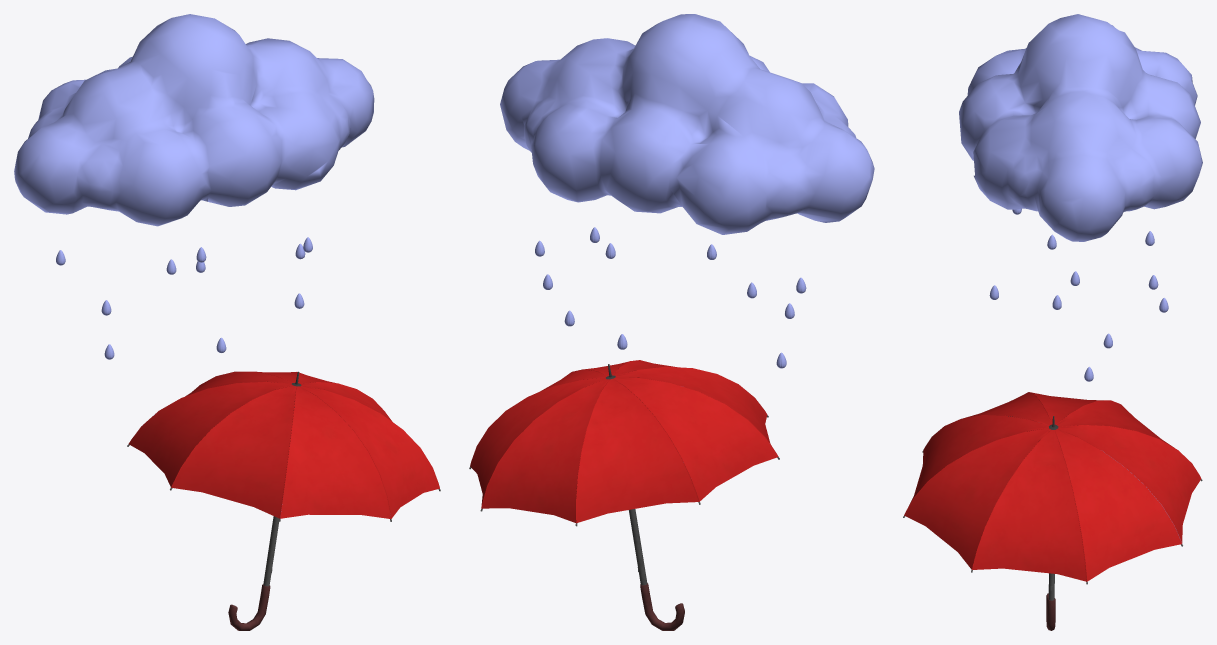
File: rain.fbx
3 renders of one model, left to right at view 1: azimuth 30°, elevation 25°; view 2: azimuth 150°, elevation 25°; view 3: azimuth 270°, elevation 25°, orthographic. The views are drawn at different scales.
Visible parts, largest first — view 1: rain; view 2: rain; view 3: rain.
Part boxes in pixels (bbox=[...]): rain: bbox=[14, 14, 440, 630]; rain: bbox=[469, 14, 874, 630]; rain: bbox=[903, 14, 1202, 630].
Size of the model in its own units: 54.28 by 82.88 by 38.13.
